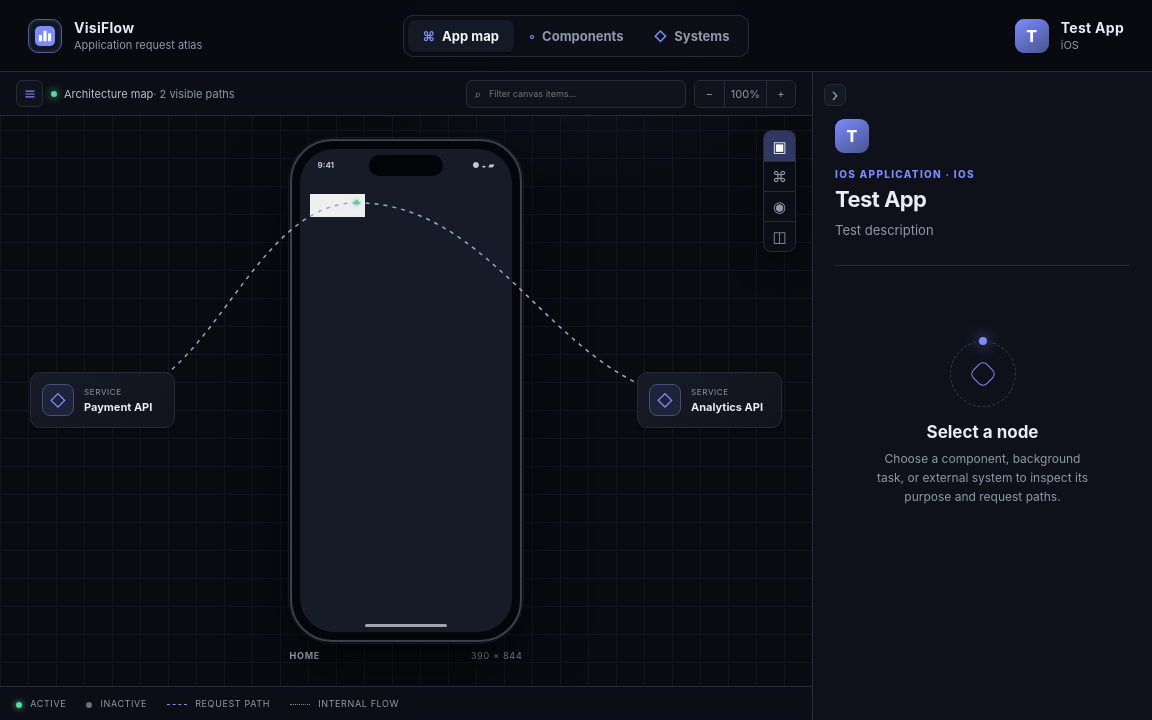
Test: VisiFlow › combines selected protocol toggles with OR semantics
Click the button named "Expand view filters" at point(30, 94), box x1=16 y1=80 x2=43 y2=107
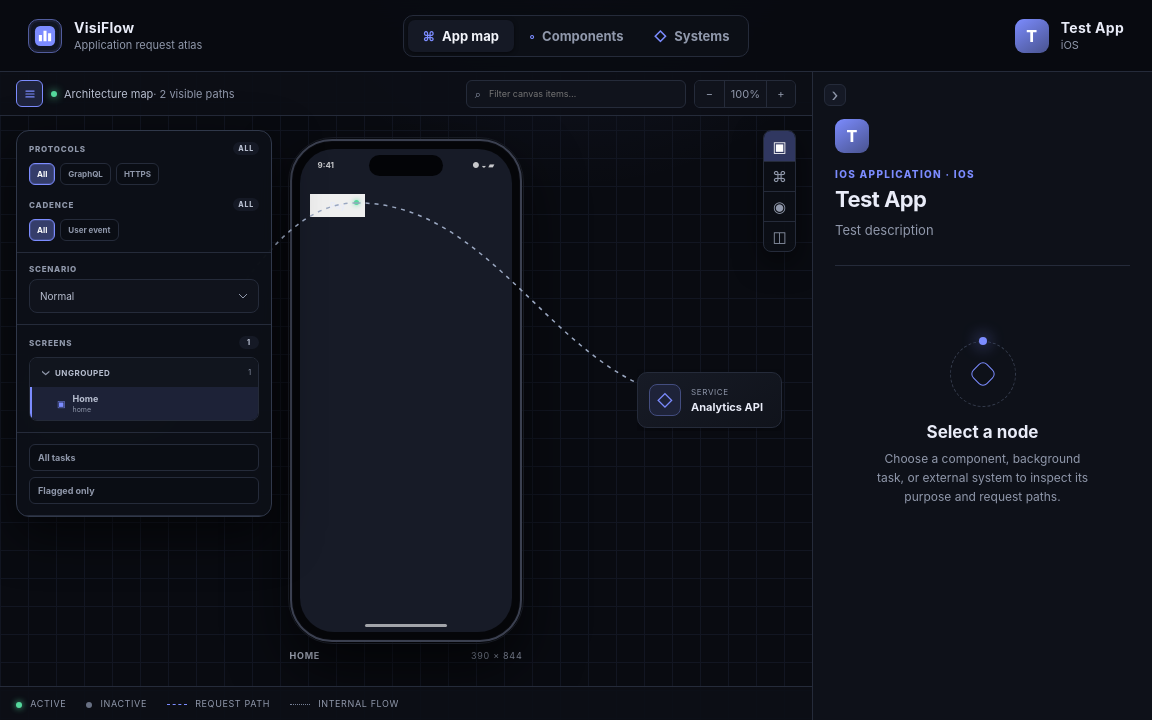
Click the button "HTTPS" at point(137, 174), box x1=116 y1=163 x2=159 y2=185
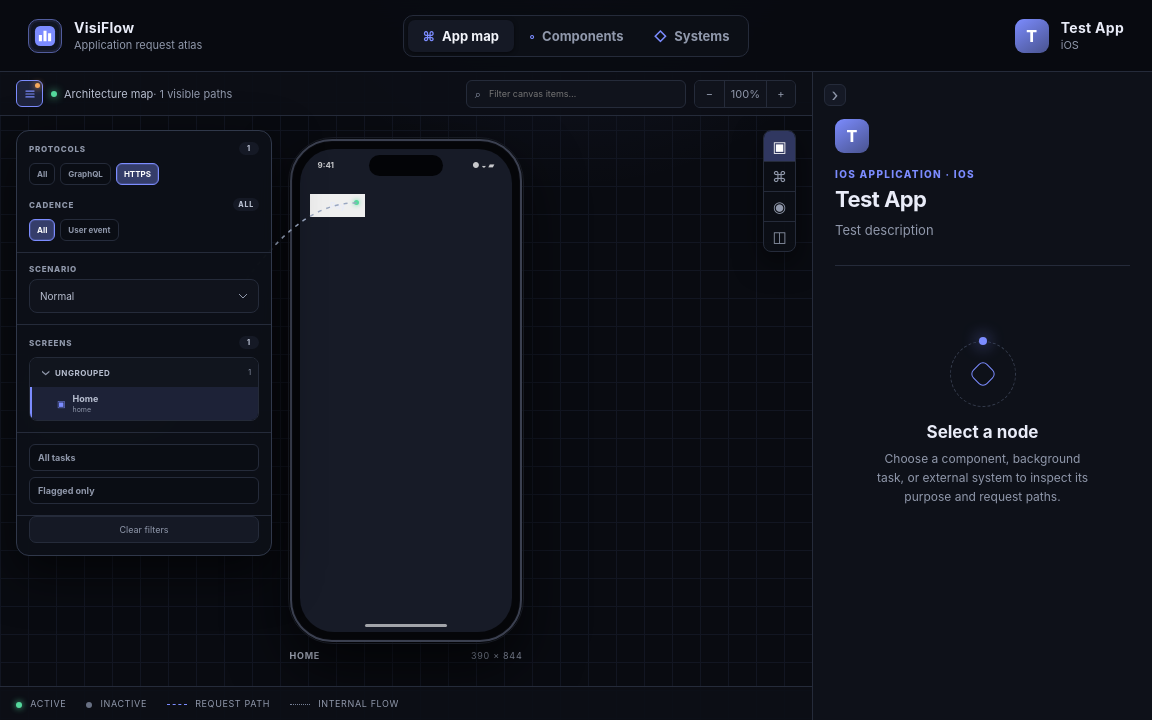
Check: the button "◇ Service Payment API" is shown, box x1=30 y1=372 x2=175 y2=428
Check: the button "Analytics API" is gone
Click the button "GraphQL" at point(86, 174), box x1=60 y1=163 x2=111 y2=185
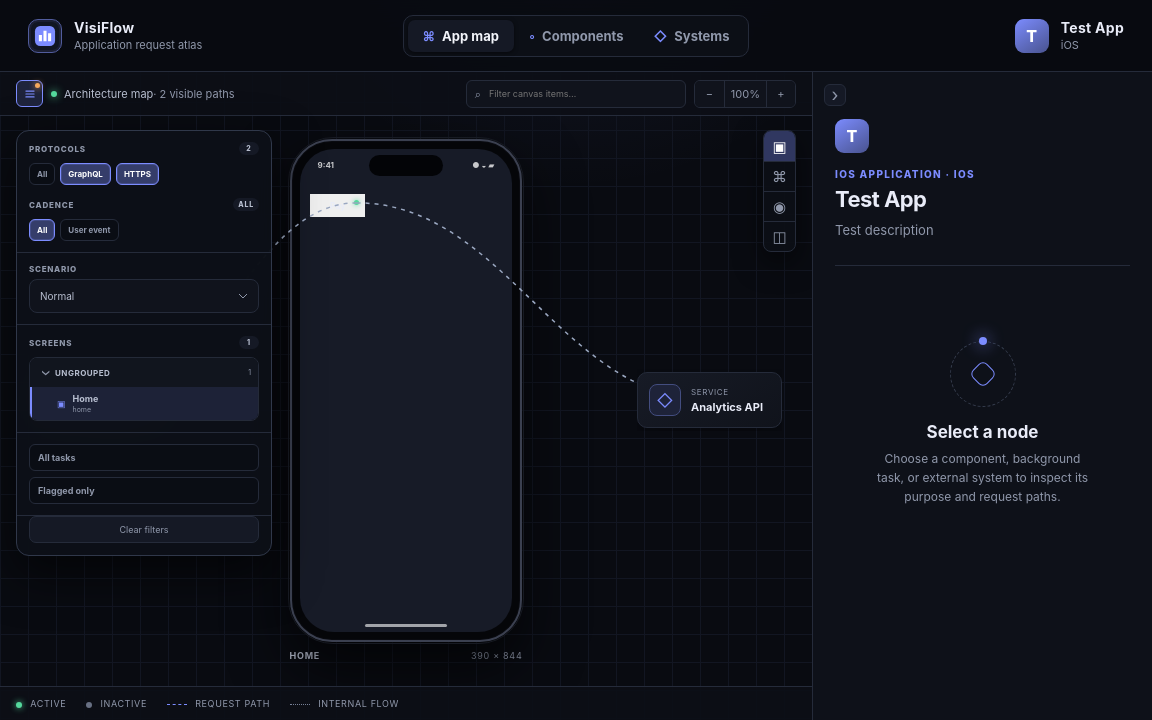
Check: the button "◇ Service Payment API" is shown, box x1=30 y1=372 x2=175 y2=428
Check: the button "◇ Service Analytics API" is shown, box x1=637 y1=372 x2=782 y2=428
